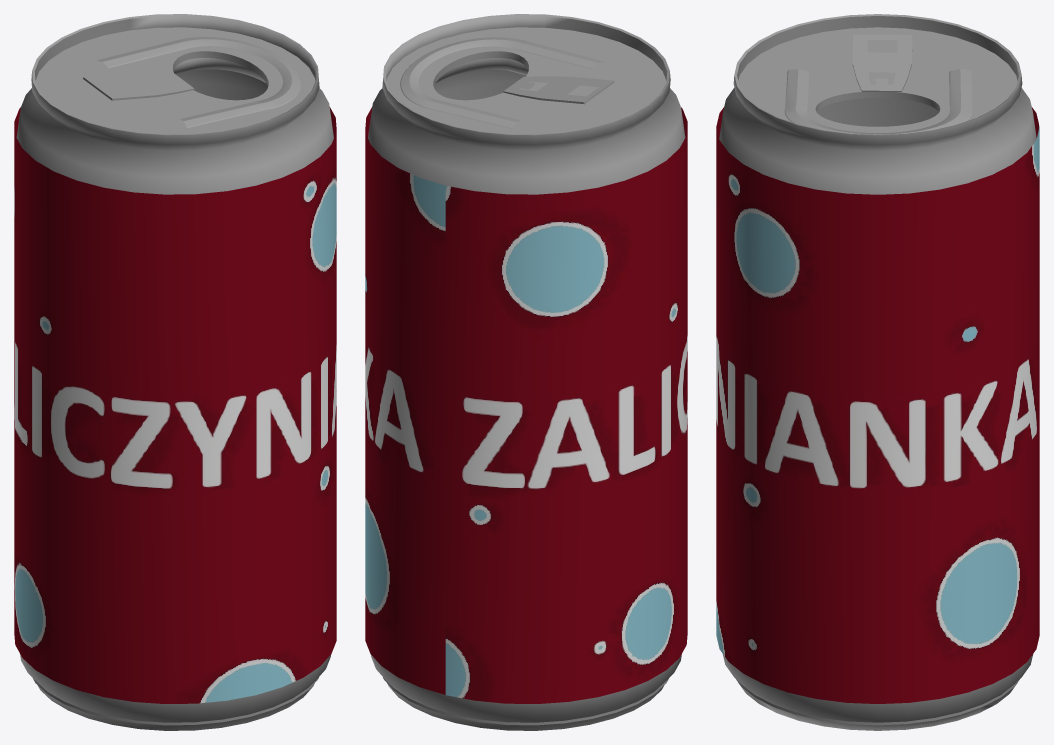
The model's file is puszka 1 merged.fbx.
The picture shows the model from 3 angles, left to right: view 1: azimuth 30°, elevation 25°; view 2: azimuth 150°, elevation 25°; view 3: azimuth 270°, elevation 25°; orthographic projection.
Visible parts, largest first — view 1: Cube; view 2: Cube; view 3: Cube.
Boxes of the visible parts, <box> form: Cube: <box>14,14,336,730</box>; Cube: <box>365,14,687,730</box>; Cube: <box>716,14,1039,730</box>.
Size of the model in its own units: 178 by 366 by 178.
2 materials, 1 textured.
